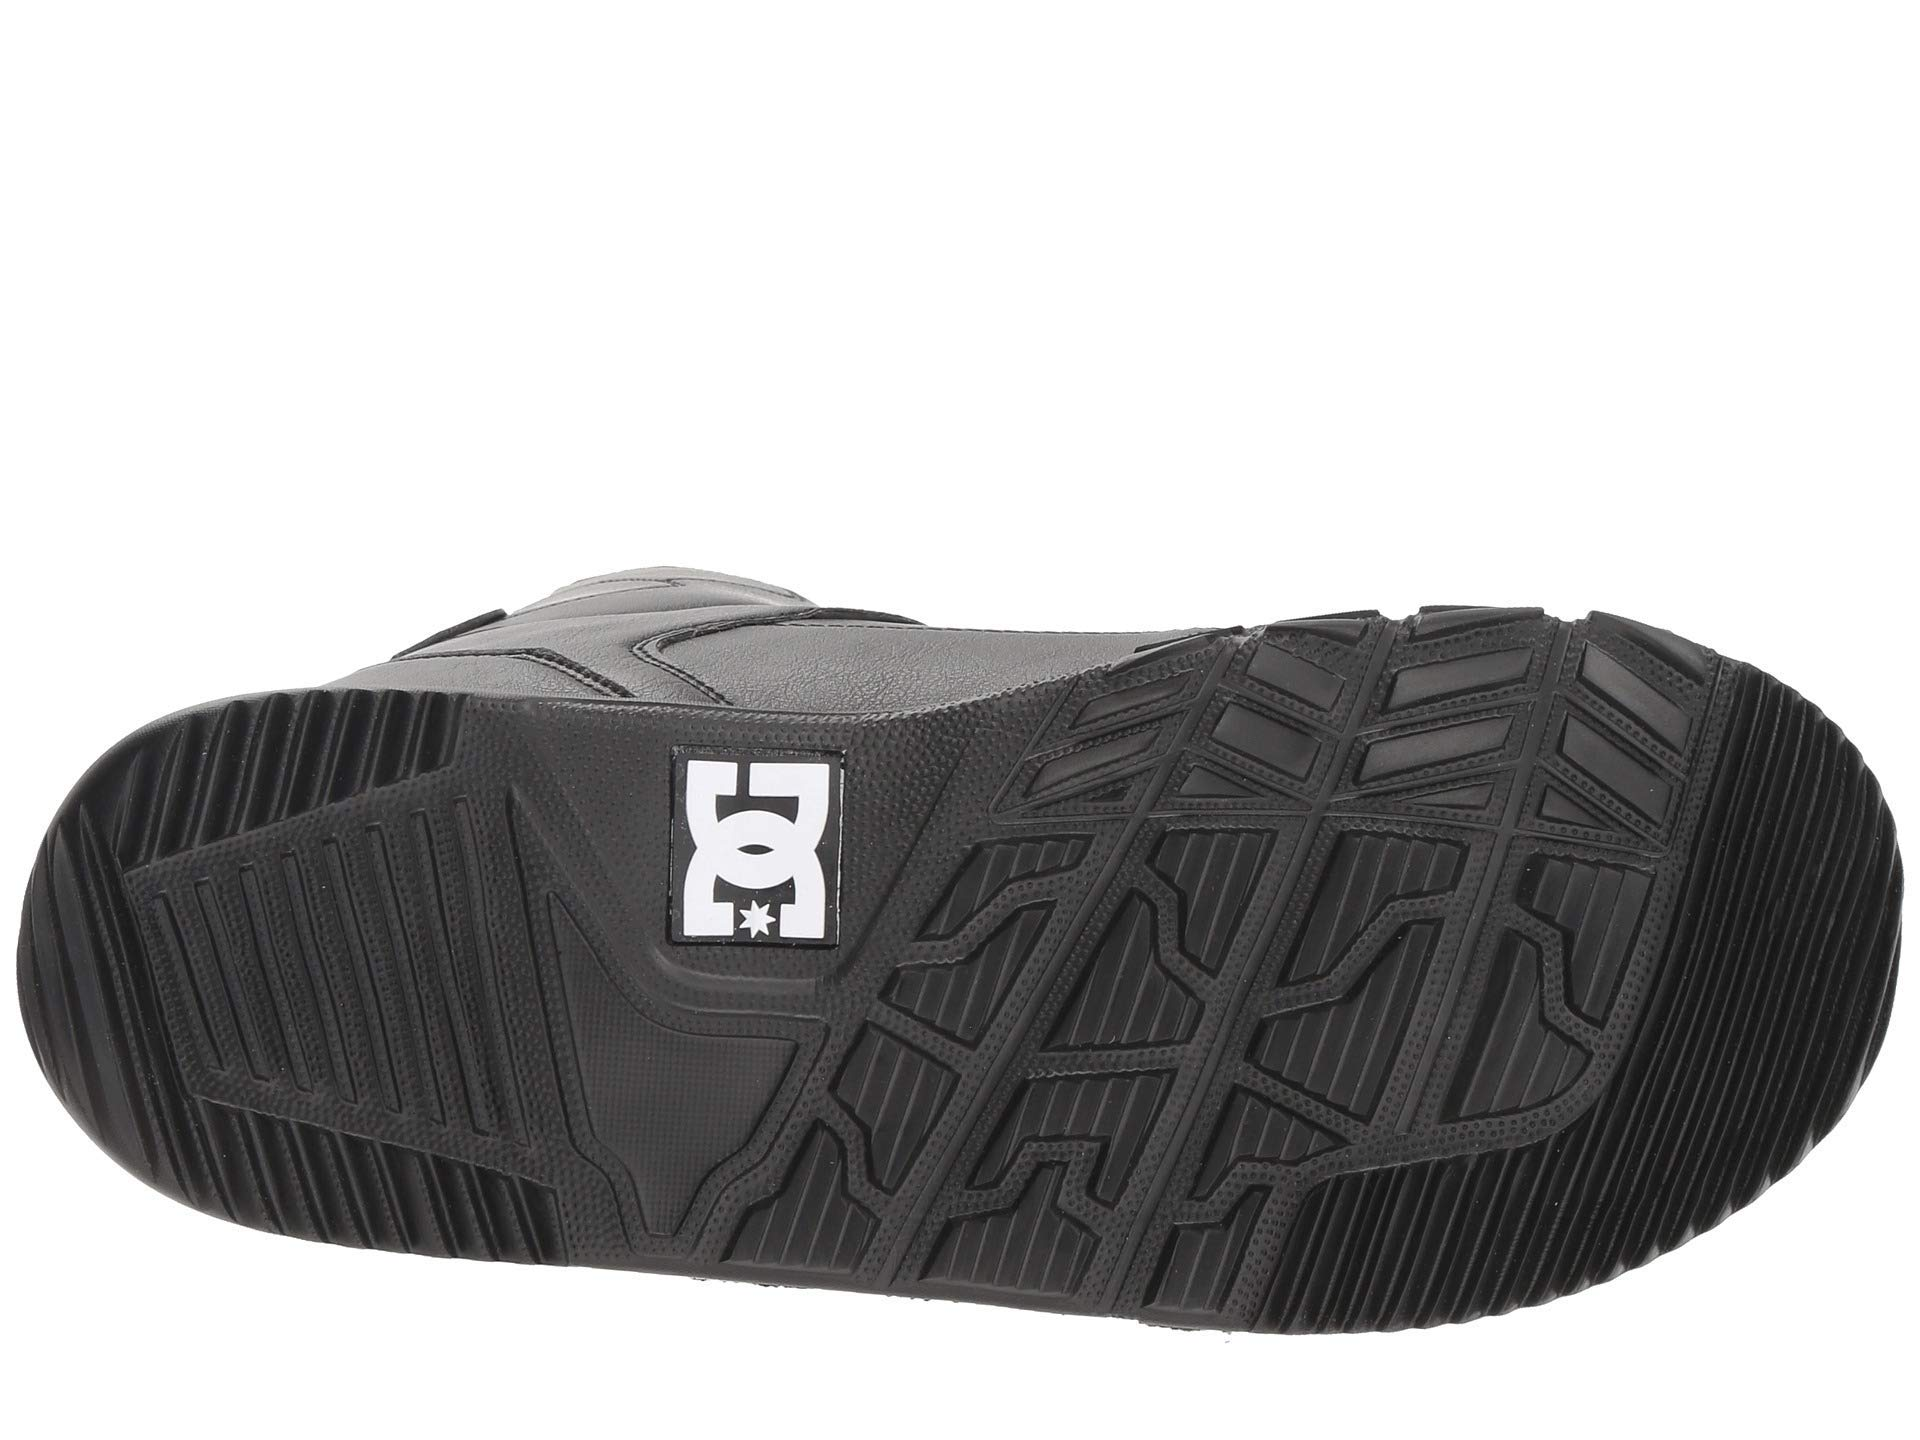line: (190, 853, 449, 1148), (1668, 914, 1873, 1116)
quad: (1355, 607, 1559, 818)
star: (733, 889, 782, 948)
triangle: (1355, 607, 1559, 818)
